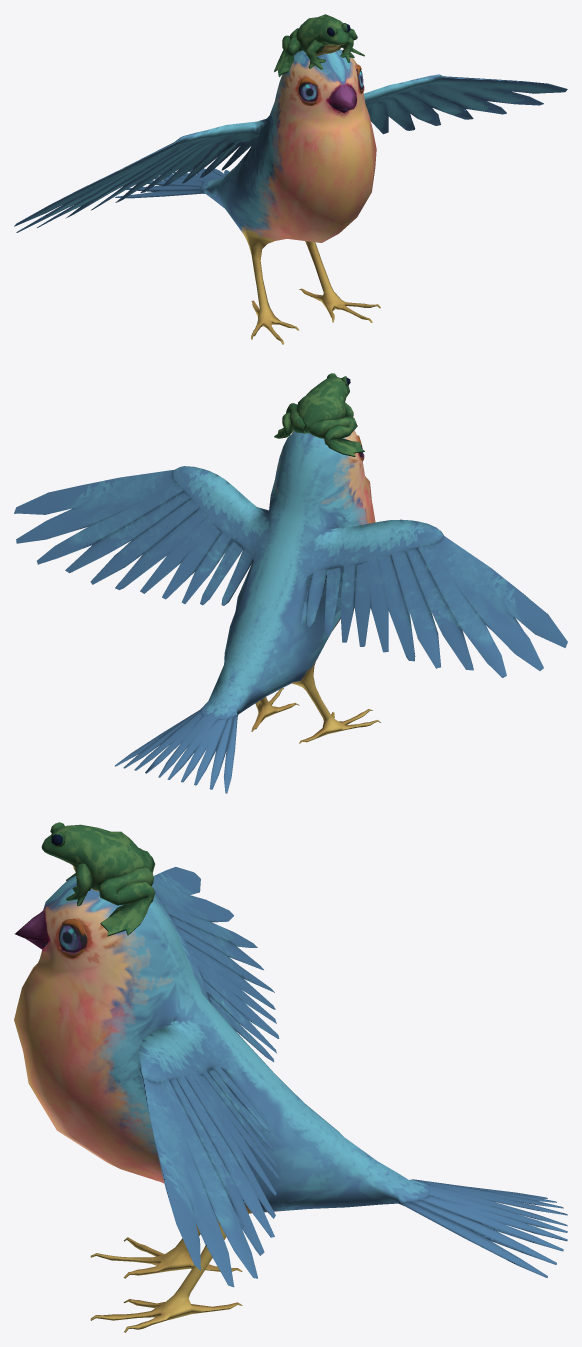
The model's file is burb+frogxdd_glb_02.glb.
3 renders of one model, top to bottom at view 1: azimuth 30°, elevation 25°; view 2: azimuth 150°, elevation 25°; view 3: azimuth 270°, elevation 25°, orthographic. The views are drawn at different scales.
Parts seen in each view (by area): view 1: burb_Low, frug_01, burb_Eyes_low; view 2: burb_Low, frug_01; view 3: burb_Low, frug_01, burb_Eyes_low.
Part boxes in pixels (bbox=[...]): burb_Low: bbox=[14, 49, 567, 344]; frug_01: bbox=[274, 14, 364, 76]; burb_Eyes_low: bbox=[298, 69, 363, 101]; burb_Low: bbox=[14, 430, 567, 793]; frug_01: bbox=[274, 373, 364, 456]; burb_Low: bbox=[14, 867, 567, 1332]; frug_01: bbox=[41, 822, 155, 936]; burb_Eyes_low: bbox=[59, 924, 87, 952].
Size of the model in its own units: 0.6211 by 0.3426 by 0.3708.
2 materials, 2 textured.
